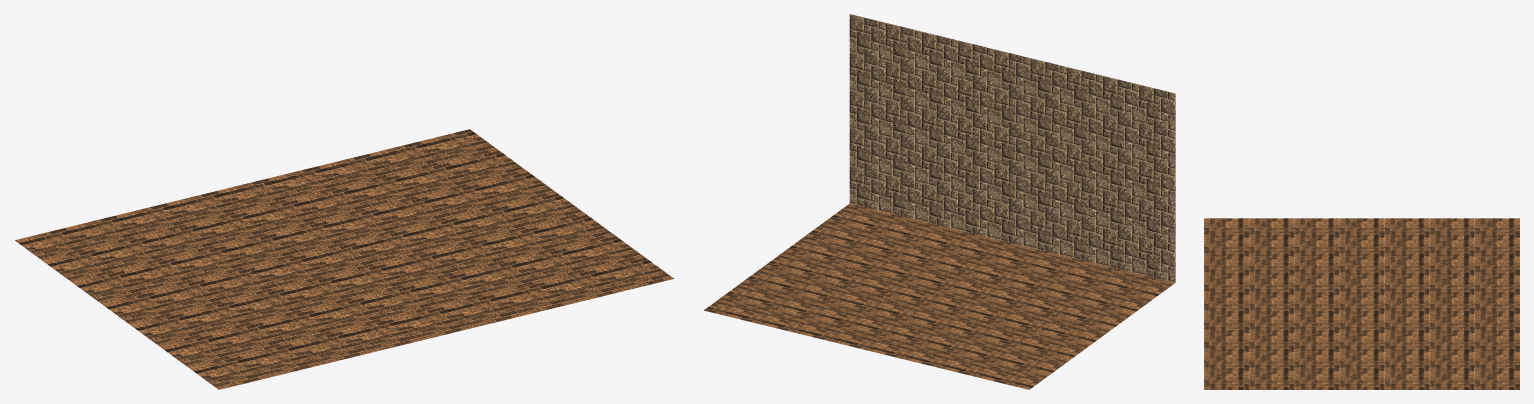
The model's file is test_crocotile-col.glb.
The picture shows the model from 3 angles, left to right: view 1: azimuth 30°, elevation 25°; view 2: azimuth 150°, elevation 25°; view 3: azimuth 270°, elevation 25°; orthographic projection. The views are drawn at different scales.
Parts seen in each view (by area): view 1: default; view 2: default; view 3: default.
Part boxes in pixels (x1,y1,x2,y2): default: (15,129,674,389); default: (703,14,1175,389); default: (1204,218,1519,389).
Bounding box in the file's own units: 9 × 5 × 7.
1 material, 1 textured.
